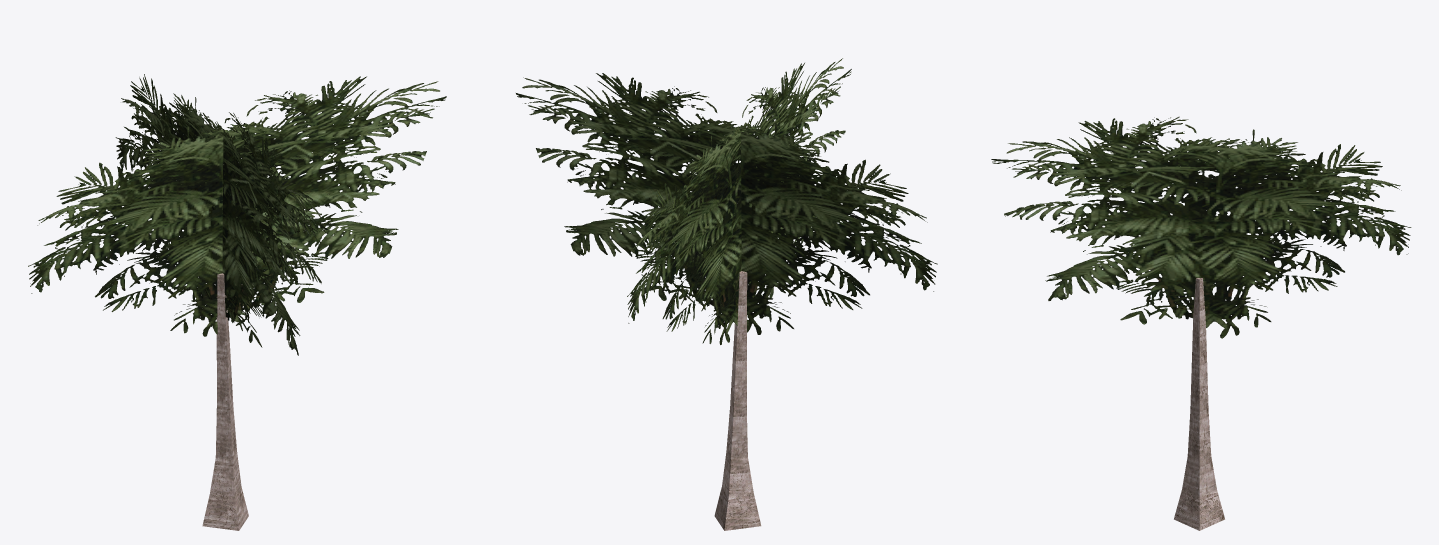
The model's file is veg_palmkb5.obj.
The picture shows the model from 3 angles, left to right: view 1: azimuth 30°, elevation 25°; view 2: azimuth 150°, elevation 25°; view 3: azimuth 270°, elevation 25°; orthographic projection. The views are drawn at different scales.
Parts seen in each view (by area): view 1: veg_palmkb5; view 2: veg_palmkb5; view 3: veg_palmkb5.
Part boxes in pixels (<box>): veg_palmkb5: <box>28,74,446,530</box>; veg_palmkb5: <box>516,58,937,530</box>; veg_palmkb5: <box>991,116,1411,530</box>.
Bounding box in the file's own units: 5.18 × 4.61 × 4.57.
Materials: 2 (2 with a texture image).
